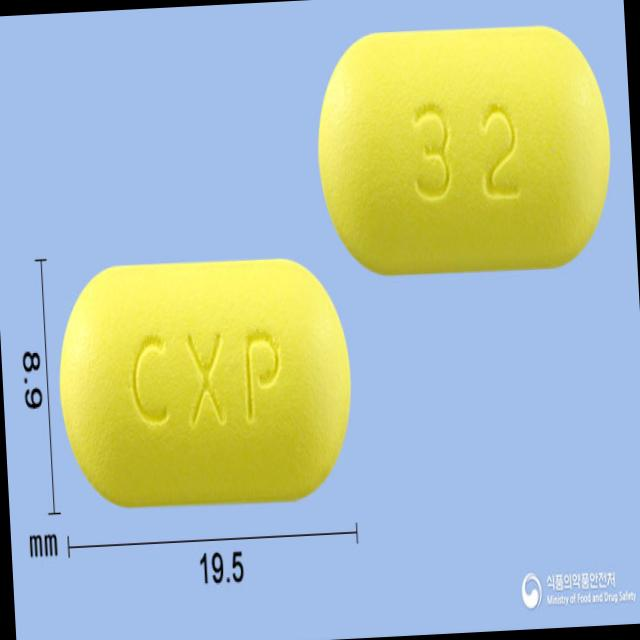Clatwo: (49, 243, 363, 524), (312, 17, 620, 280)
